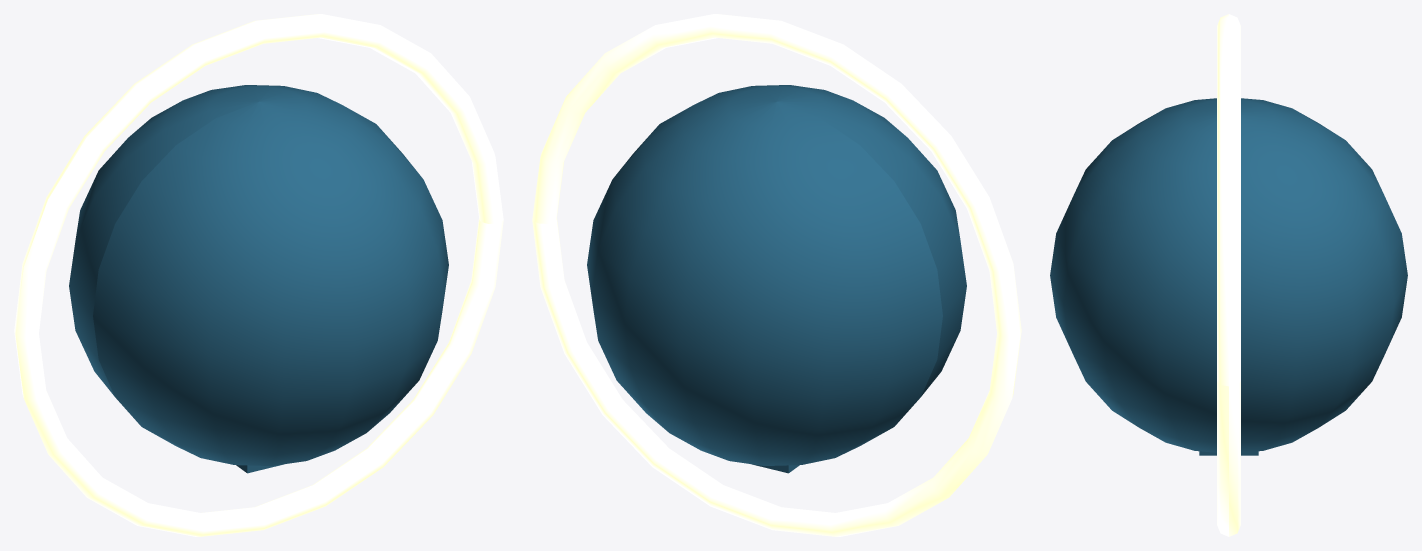
The picture shows the model from 3 angles, left to right: view 1: azimuth 30°, elevation 25°; view 2: azimuth 150°, elevation 25°; view 3: azimuth 270°, elevation 25°; orthographic projection. The views are drawn at different scales.
Size of the model in its own units: 0.88 by 0.88 by 0.6.
